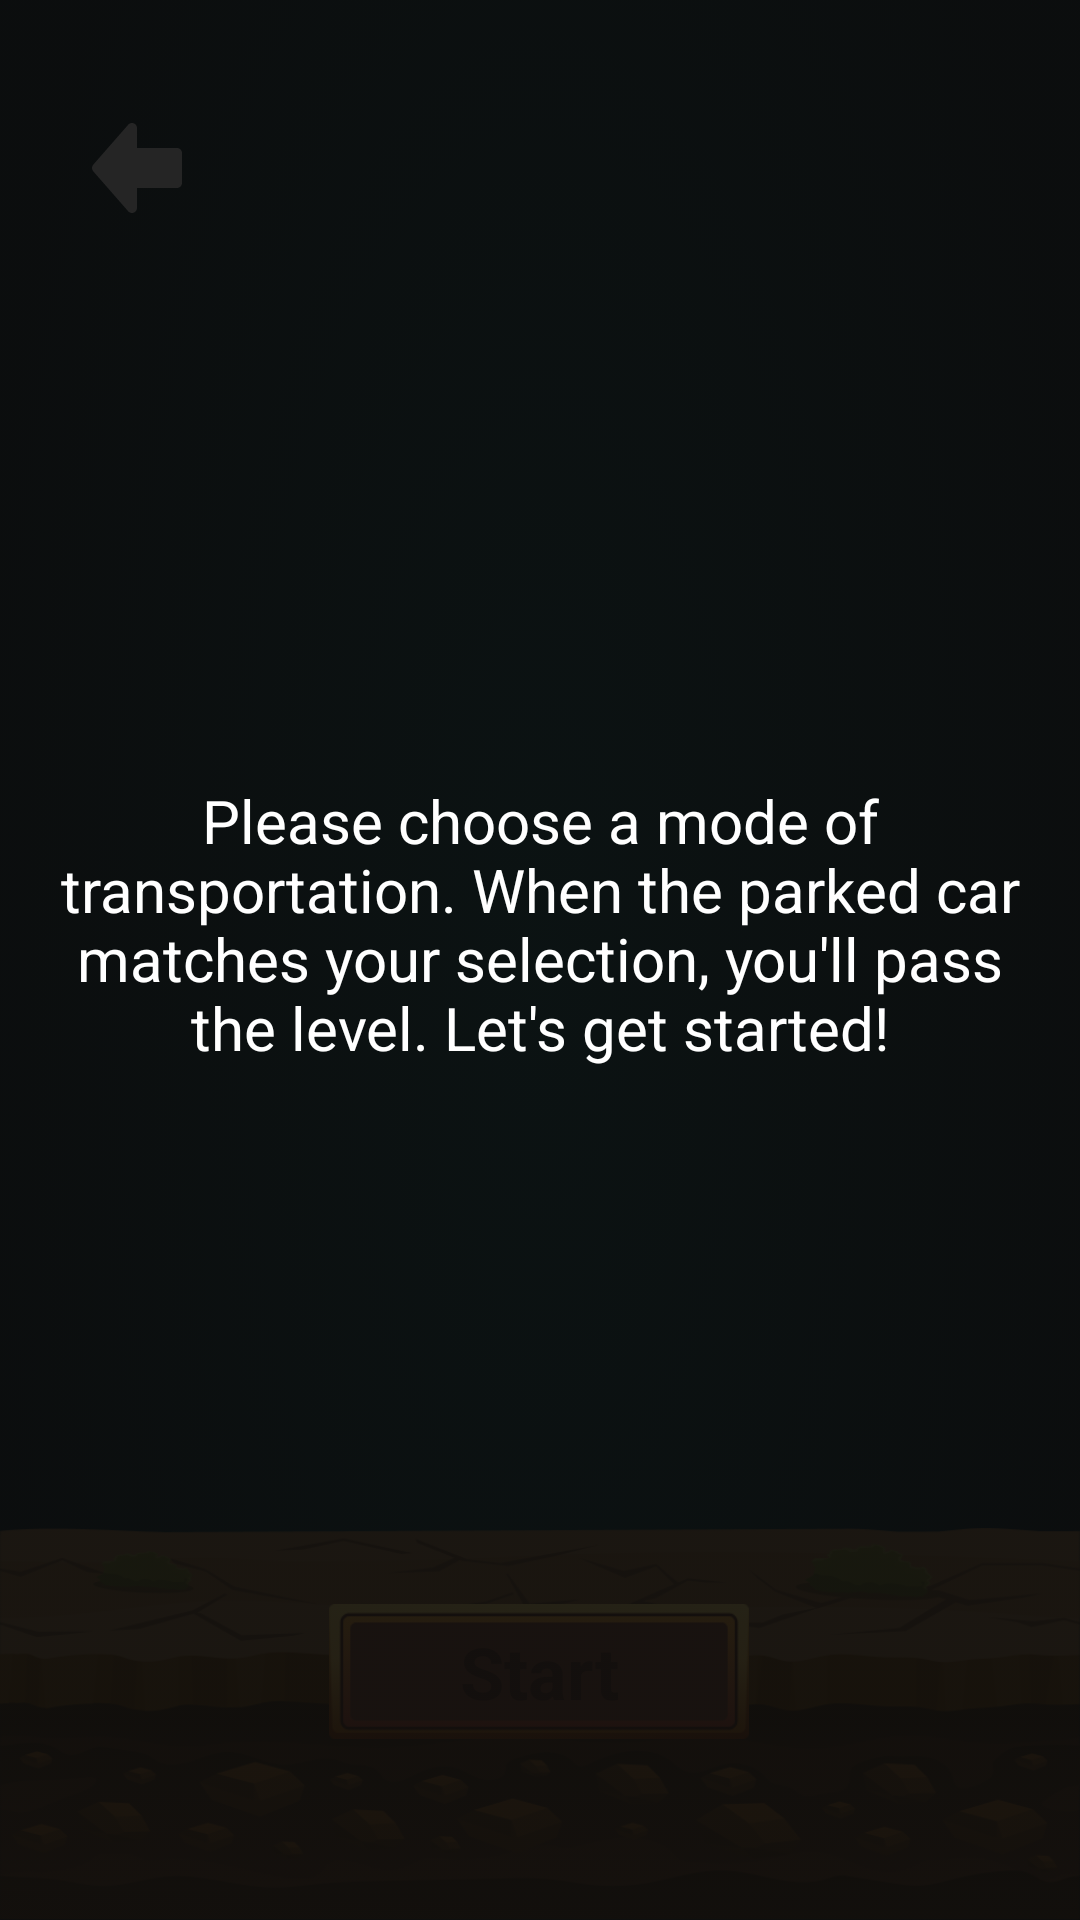

Icon bounding boxes for this 1080×1920 phone screenshot, format (x1=x1, y1=y1, x2=x2, y2=y2):
back: (x1=92, y1=123, x2=182, y2=213)
